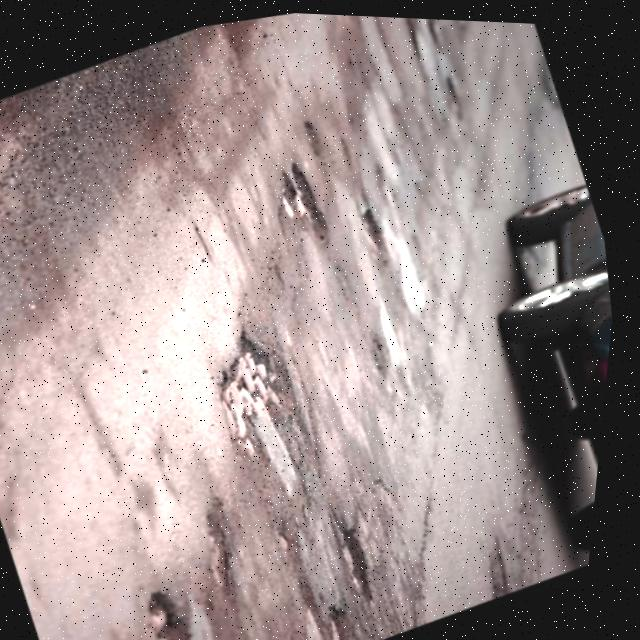Pothole: (134, 288, 345, 505), (102, 548, 264, 640), (183, 496, 264, 604), (328, 167, 411, 267), (334, 487, 409, 591), (278, 160, 348, 254), (338, 294, 412, 379), (424, 42, 476, 117), (288, 106, 331, 170), (324, 594, 378, 640), (329, 111, 368, 169), (393, 14, 435, 62), (404, 14, 448, 38)
